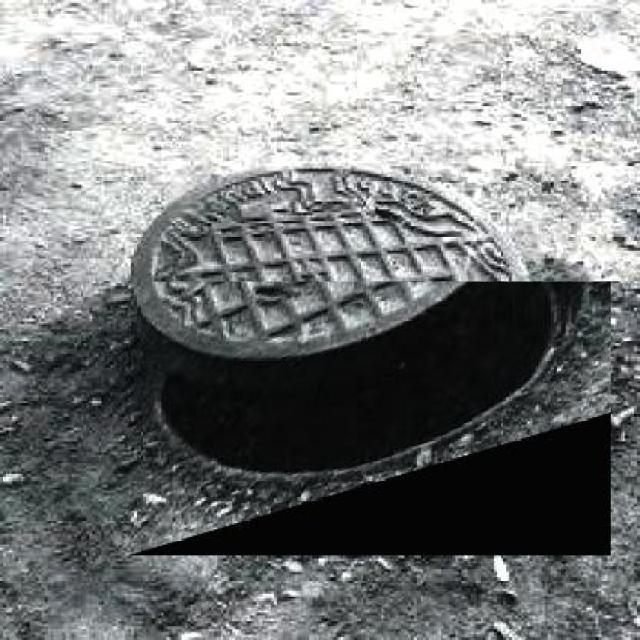Manhole: (128, 157, 531, 281)
Open Manhole: (128, 282, 610, 556)
